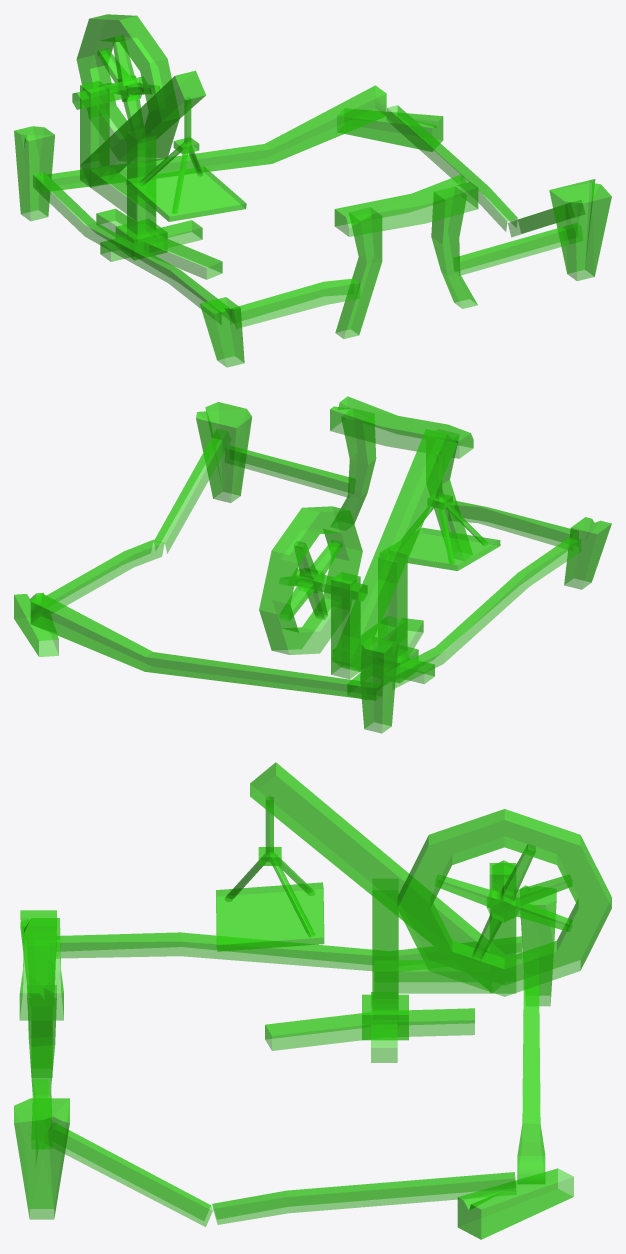
The model's file is Stone_storage_possible_to_place.fbx.
3 renders of one model, top to bottom at view 1: azimuth 30°, elevation 25°; view 2: azimuth 150°, elevation 25°; view 3: azimuth 270°, elevation 25°, orthographic. The views are drawn at different scales.
Visible parts, largest first — view 1: Cube.010; view 2: Cube.010; view 3: Cube.010.
Boxes of the visible parts, box(x1,y1,x2,y2) form: Cube.010: box(14, 14, 611, 367); Cube.010: box(14, 396, 611, 733); Cube.010: box(14, 762, 611, 1239).
Bounding box in the file's own units: 6 × 6 × 3.
